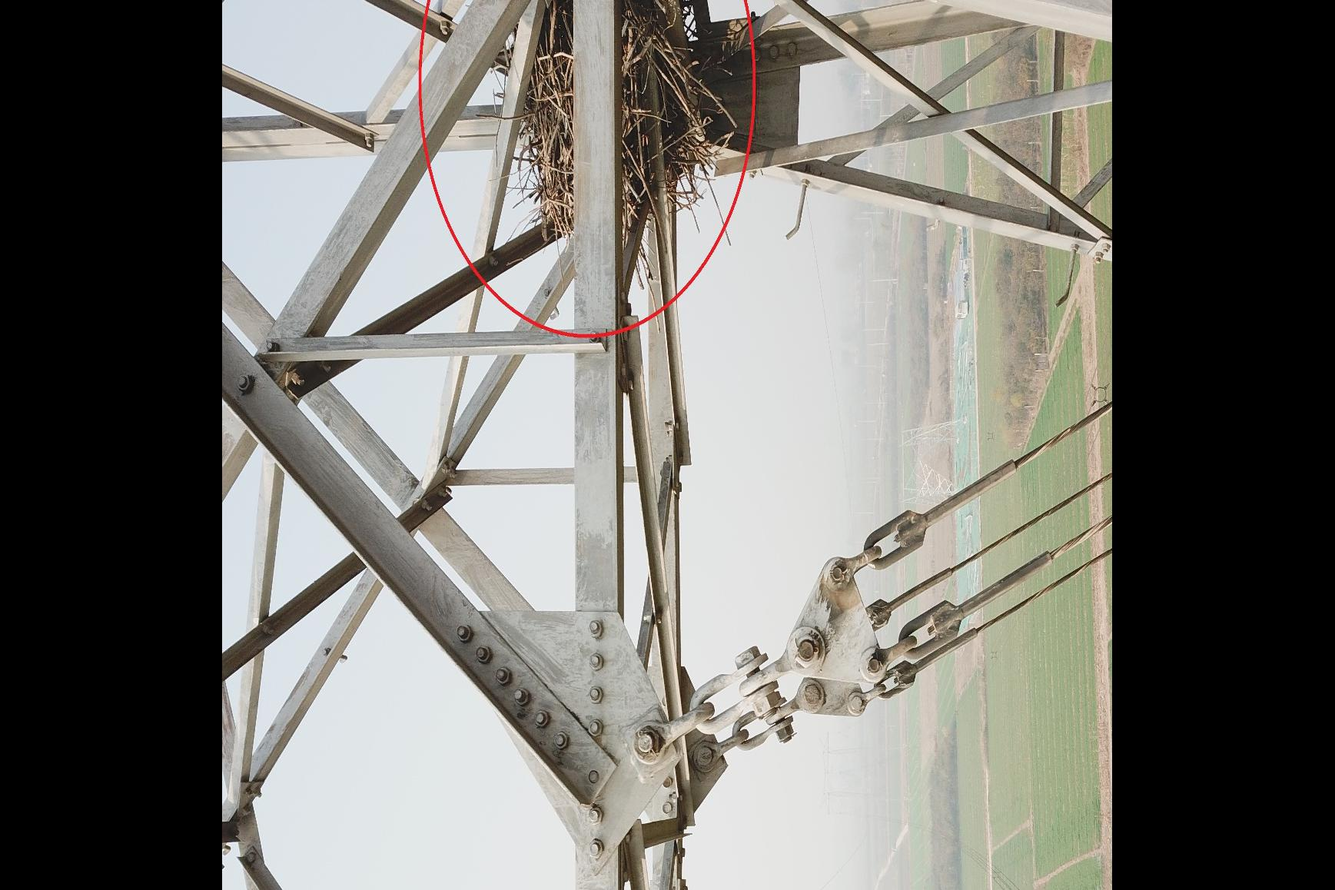nest: (487, 1, 742, 255)
